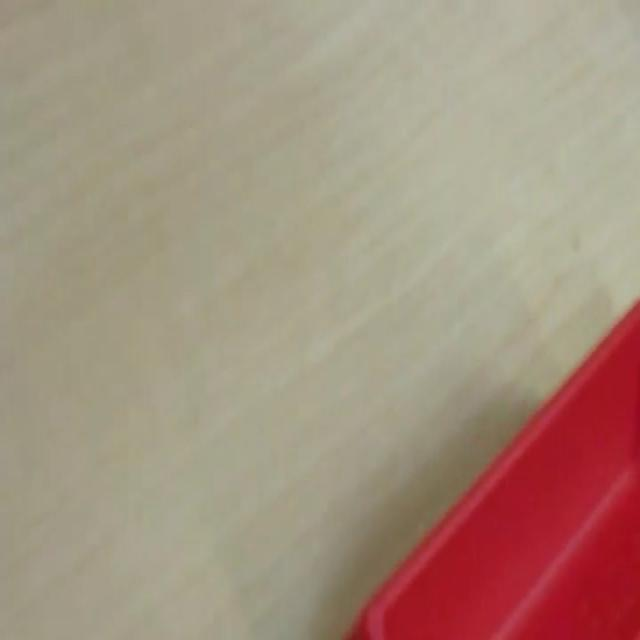red_block: (342, 295, 639, 637)
